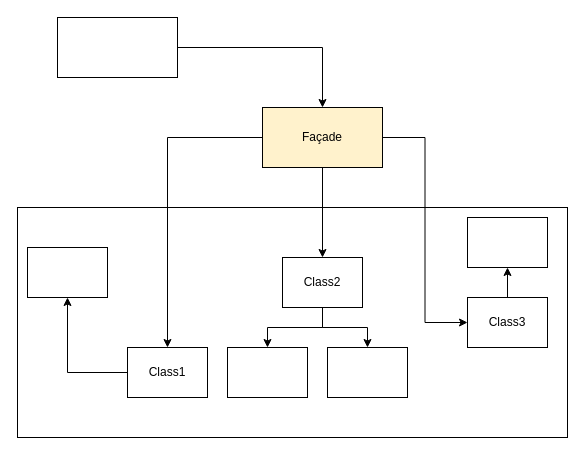
The diagram is 585 pixels wide and 455 high, and some of its shapes have lost their labels. The shapes that lost their labels are listed below. From the top down, each one's box as (x1, y1, x2, y2) in pixels, then its label:
(56, 16, 178, 78): Client
(16, 206, 568, 438): Subsystem
